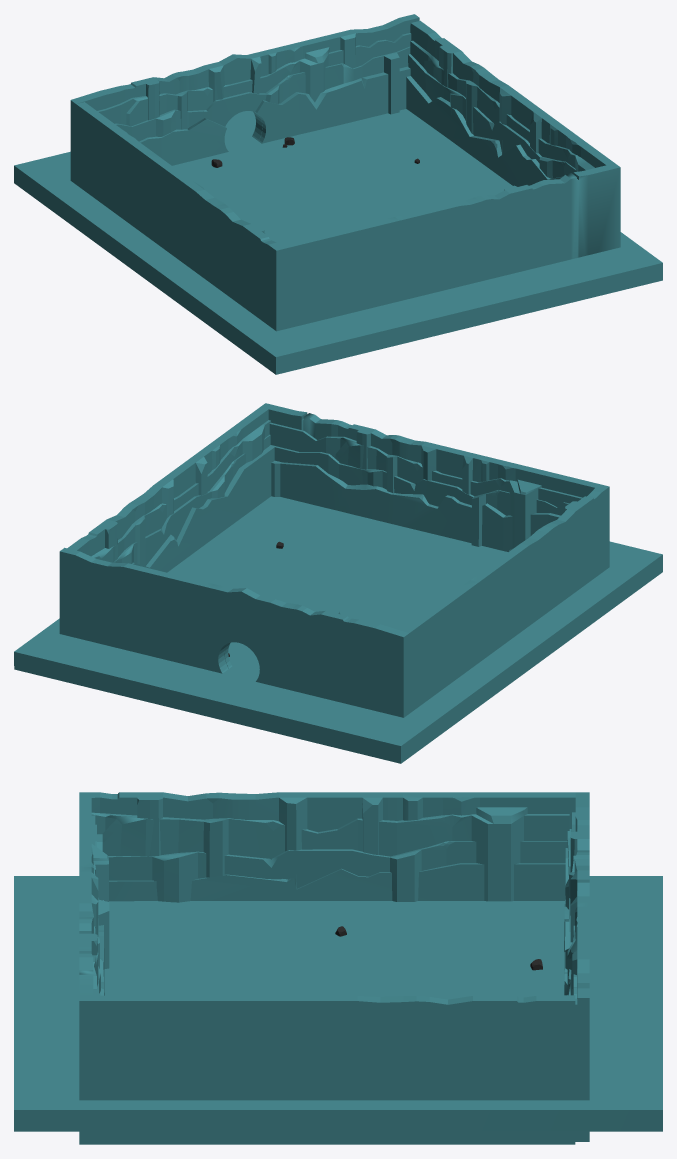
Rendered from Snow field.fbx.
3 renders of one model, top to bottom at view 1: azimuth 30°, elevation 25°; view 2: azimuth 150°, elevation 25°; view 3: azimuth 270°, elevation 25°, orthographic. The views are drawn at different scales.
Visible parts, largest first — view 1: Foundation.002, Border.051, Border.044, Border.028, Border.026, Border.027, Border.025, Border.031, Border.032, Border.030, Border.029; view 2: Foundation.002, Border.028, Border.044, Border.049, Border.051, Border.050, Border.031, Border.032, Border.045, Border.030, Border.029; view 3: Foundation.002, Border.031, Border.038, Border.044, Border.033, Border.041, Border.028, Border.051, Border.050, Border.026, Border.049, Border.027 (+2 smaller).
Part boxes in pixels (x1,y1,x2,y2): Foundation.002: (14, 109, 662, 374); Border.051: (272, 163, 620, 331); Border.044: (76, 102, 281, 327); Border.028: (70, 14, 419, 184); Border.026: (139, 66, 410, 165); Border.027: (76, 25, 411, 185); Border.025: (77, 46, 410, 186); Border.031: (410, 20, 615, 167); Border.032: (406, 76, 562, 186); Border.030: (410, 40, 594, 171); Border.029: (408, 54, 576, 178); Foundation.002: (14, 496, 662, 763); Border.028: (59, 547, 409, 717); Border.044: (396, 487, 605, 716); Border.049: (271, 460, 560, 551); Border.051: (260, 403, 609, 570); Border.050: (269, 422, 582, 548); Border.031: (67, 406, 269, 560); Border.032: (132, 445, 275, 572); Border.045: (270, 445, 569, 546); Border.030: (91, 420, 270, 565); Border.029: (114, 434, 270, 566); Foundation.002: (14, 876, 662, 1131); Border.031: (89, 993, 575, 1144); Border.038: (91, 807, 569, 901); Border.044: (89, 792, 575, 888); Border.033: (108, 841, 567, 902); Border.041: (109, 863, 565, 901); Border.028: (570, 792, 589, 1141); Border.051: (79, 792, 98, 1144); Border.050: (91, 814, 108, 1144); Border.026: (563, 848, 571, 1143); Border.049: (96, 834, 104, 1144); Border.027: (567, 812, 577, 1141).
Size of the model in its own units: 11450 by 3465 by 13423.
